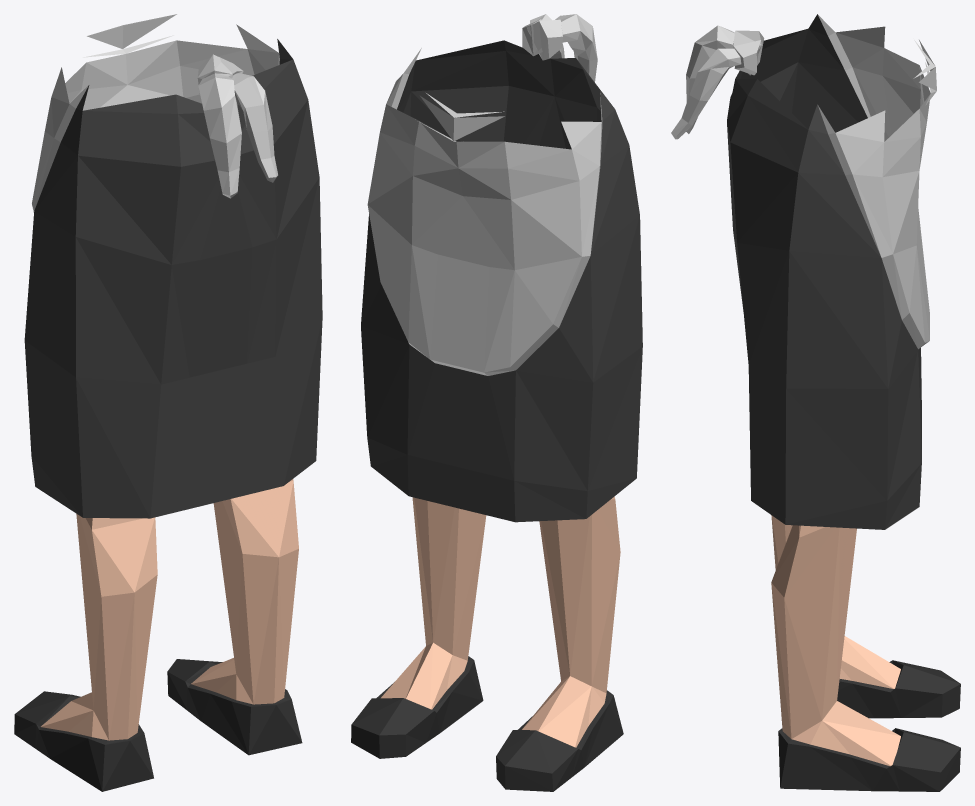
Rendered from Mother_01_04_A_Legs.obj.
3 views of the same model, side by side, from view 1: azimuth 30°, elevation 25°; view 2: azimuth 150°, elevation 25°; view 3: azimuth 270°, elevation 25° (orthographic). The views are drawn at different scales.
Visible parts, largest first — view 1: Mother_01_04_A_Legs; view 2: Mother_01_04_A_Legs; view 3: Mother_01_04_A_Legs.
Boxes of the visible parts, x1,y1,x2,y2 form: Mother_01_04_A_Legs: (14, 14, 322, 791); Mother_01_04_A_Legs: (351, 14, 642, 791); Mother_01_04_A_Legs: (671, 14, 960, 791).
Size of the model in its own units: 0.3876 by 1.08 by 0.4009.
1 material, 1 textured.
